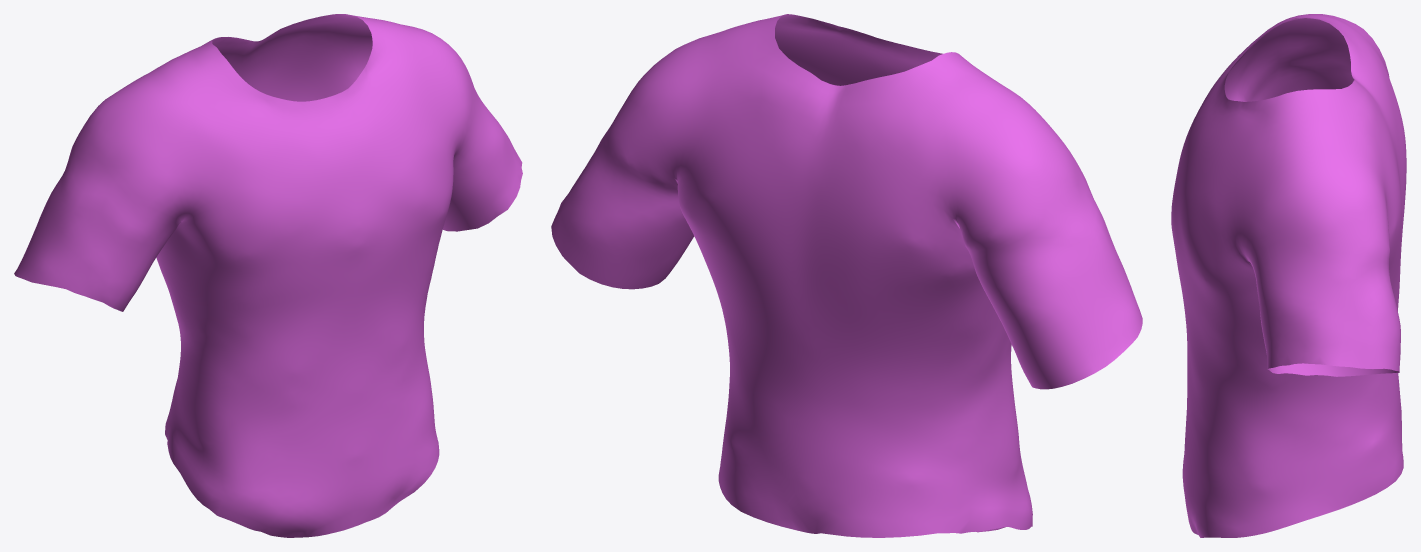
The model's file is Male-Medium-Tshirt.glb.
The picture shows the model from 3 angles, left to right: view 1: azimuth 30°, elevation 25°; view 2: azimuth 150°, elevation 25°; view 3: azimuth 270°, elevation 25°; orthographic projection. The views are drawn at different scales.
Parts seen in each view (by area): view 1: Group1.011; view 2: Group1.011; view 3: Group1.011.
Part boxes in pixels (bbox=[...]): Group1.011: bbox=[14, 14, 522, 537]; Group1.011: bbox=[551, 14, 1142, 537]; Group1.011: bbox=[1171, 14, 1406, 537].
Bounding box in the file's own units: 1.43 × 1.27 × 0.5836.
